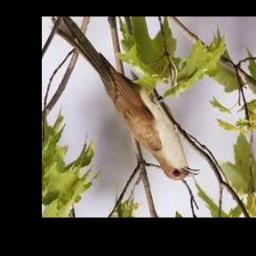Cuckoo: (50, 16, 201, 181)
